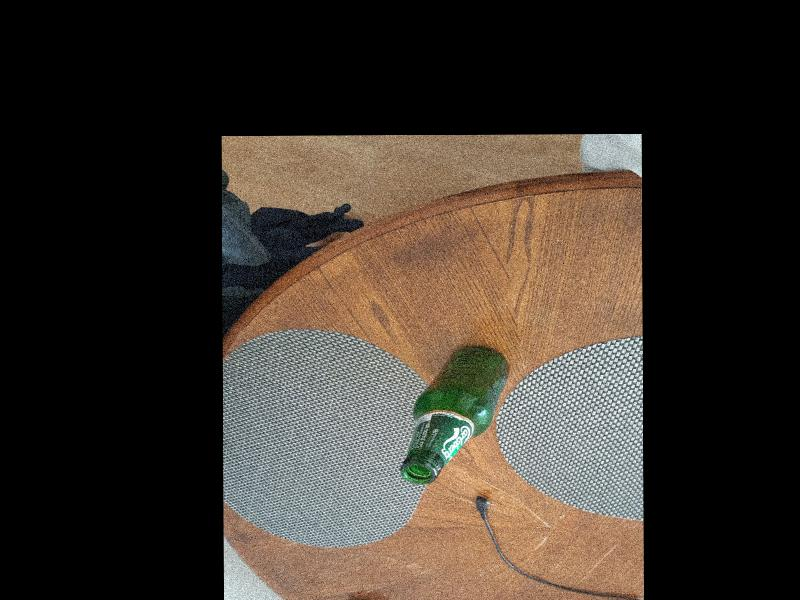Beer: (398, 343, 515, 484)
